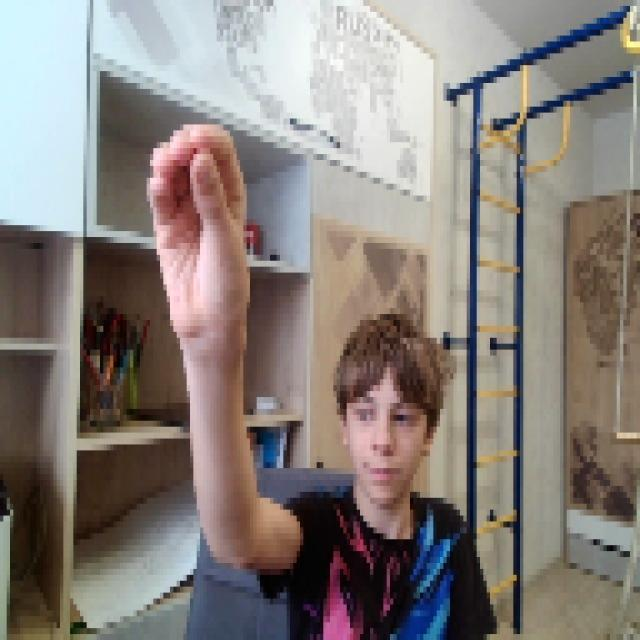left_click: (140, 106, 247, 338)
